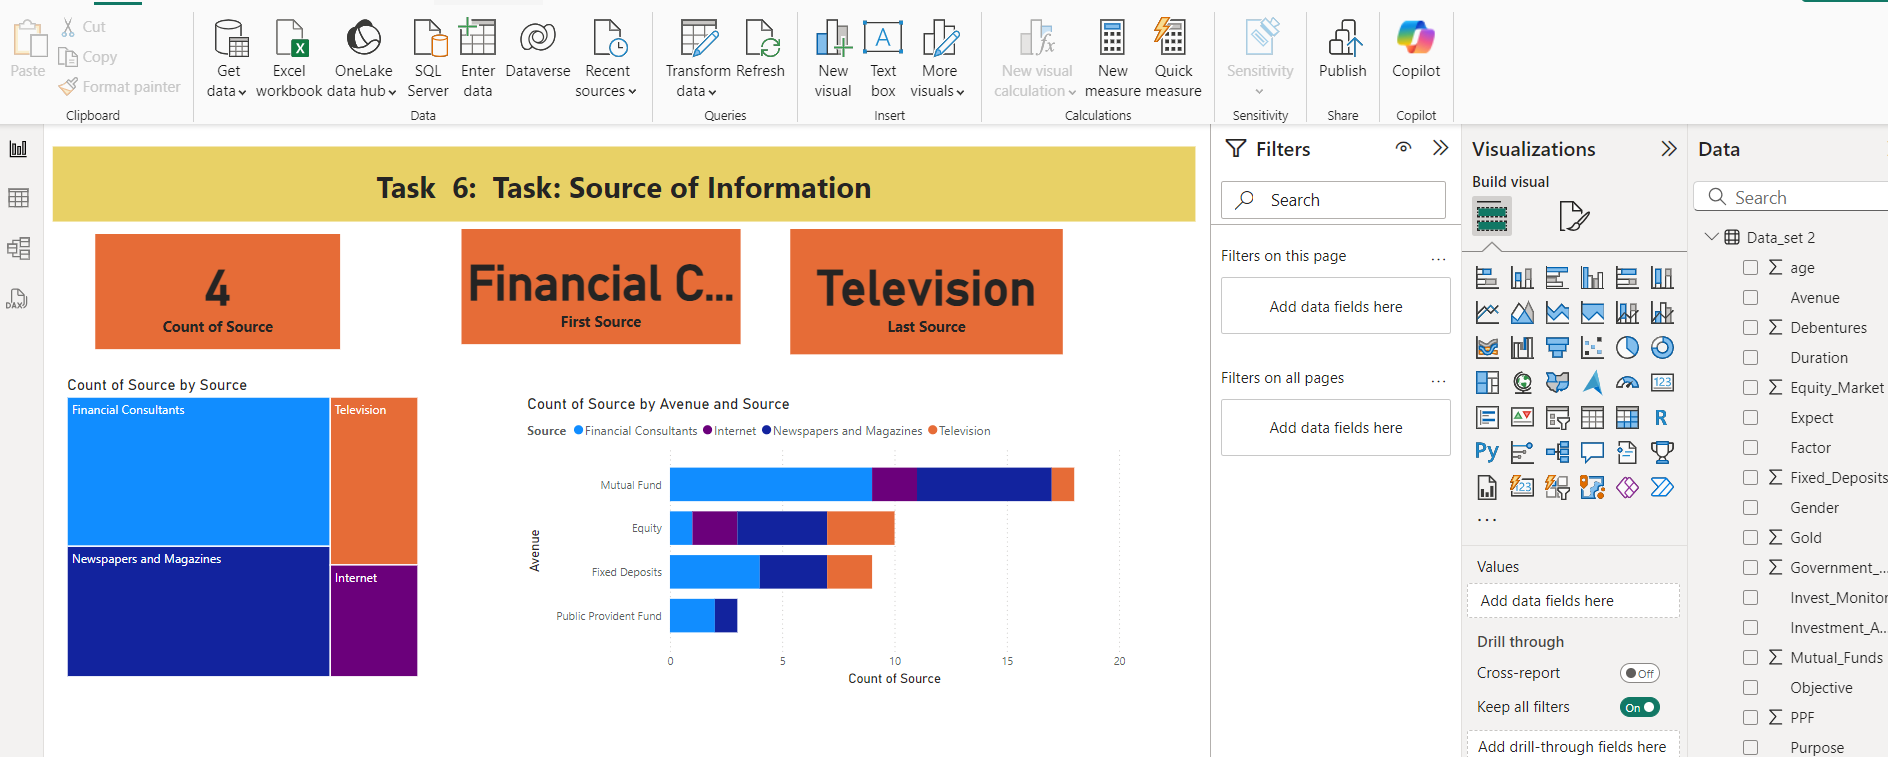

The dashboard page shown, as its layout file describes it:
{"tool":"powerbi","page":{"name":"Page 6","canvas":[1280,720],"ordinal":5},"visuals":[{"type":"textbox","box":[9.6,24.7,1254.2,82.3],"z":0},{"type":"card","fields":{"Values":["Count(Data_set 2.Source)"]},"box":[56.3,120.8,269,126.2],"z":1000},{"type":"treemap","fields":{"Group":["Data_set 2.Source"],"Values":["CountNonNull(Data_set 2.Source)"]},"box":[20.6,275.8,395.2,336.2],"z":2000},{"type":"barChart","fields":{"Category":["Data_set 2.Avenue"],"Y":["CountNonNull(Data_set 2.Source)"],"Series":["Data_set 2.Source"]},"box":[525.6,296.4,666.9,325.2],"z":3000},{"type":"card","fields":{"Values":["Min(Data_set 2.Source)"]},"box":[458.3,115.3,306,126.2],"z":4000},{"type":"card","fields":{"Values":["Max(Data_set 2.Source)"]},"box":[819.2,115.3,299.1,137.2],"z":5000}]}

Visuals, with their boxes on the page's 1280x720 design canvas (x1, y1, x2, y2). These are canvas units, not pixel positions in the 1888x757 screenshot, which may show the page scaled, cropped or inside an application window:
textbox: [left=10, top=25, right=1264, bottom=107]
card - Count(Data_set 2.Source): [left=56, top=121, right=325, bottom=247]
treemap - Data_set 2.Source x CountNonNull(Data_set 2.Source): [left=21, top=276, right=416, bottom=612]
barChart - Data_set 2.Avenue x CountNonNull(Data_set 2.Source): [left=526, top=296, right=1192, bottom=622]
card - Min(Data_set 2.Source): [left=458, top=115, right=764, bottom=242]
card - Max(Data_set 2.Source): [left=819, top=115, right=1118, bottom=252]
